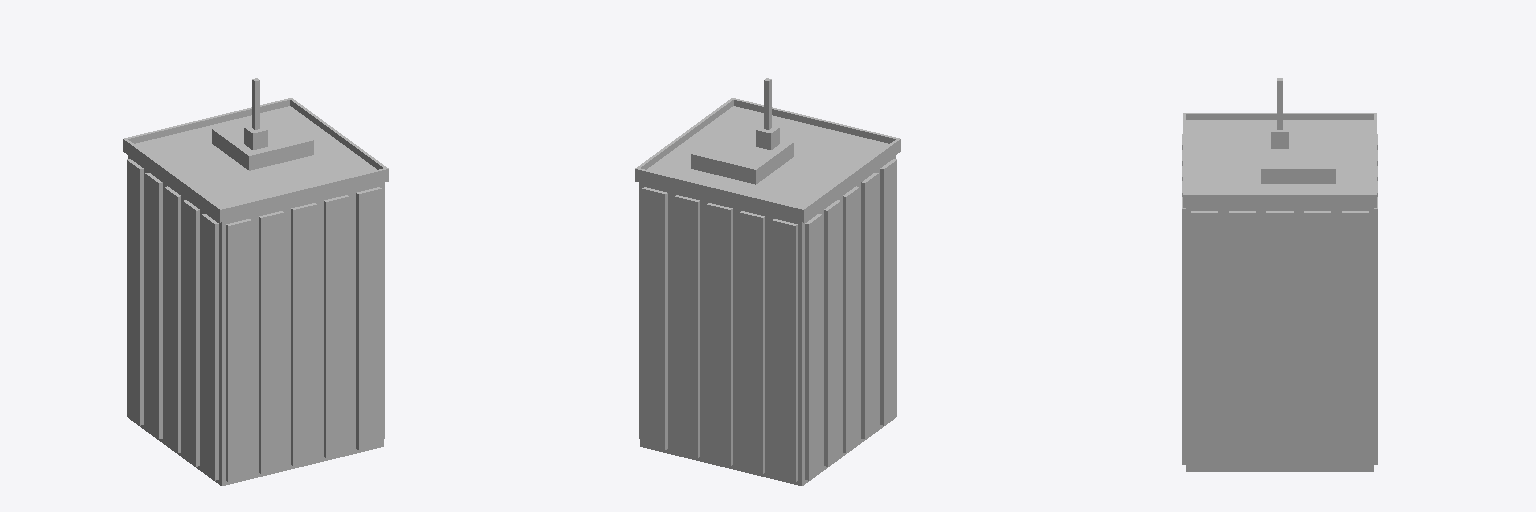
3 views of the same model, side by side, from view 1: azimuth 30°, elevation 25°; view 2: azimuth 150°, elevation 25°; view 3: azimuth 270°, elevation 25° (orthographic).
Parts seen in each view (by area): view 1: Highrise_6; view 2: Highrise_6; view 3: Highrise_6.
Boxes of the visible parts, box(x1,y1,x2,y2) form: Highrise_6: box(123, 78, 388, 485); Highrise_6: box(635, 78, 900, 485); Highrise_6: box(1182, 78, 1377, 471).
Bounding box in the file's own units: 209 × 414 × 209.